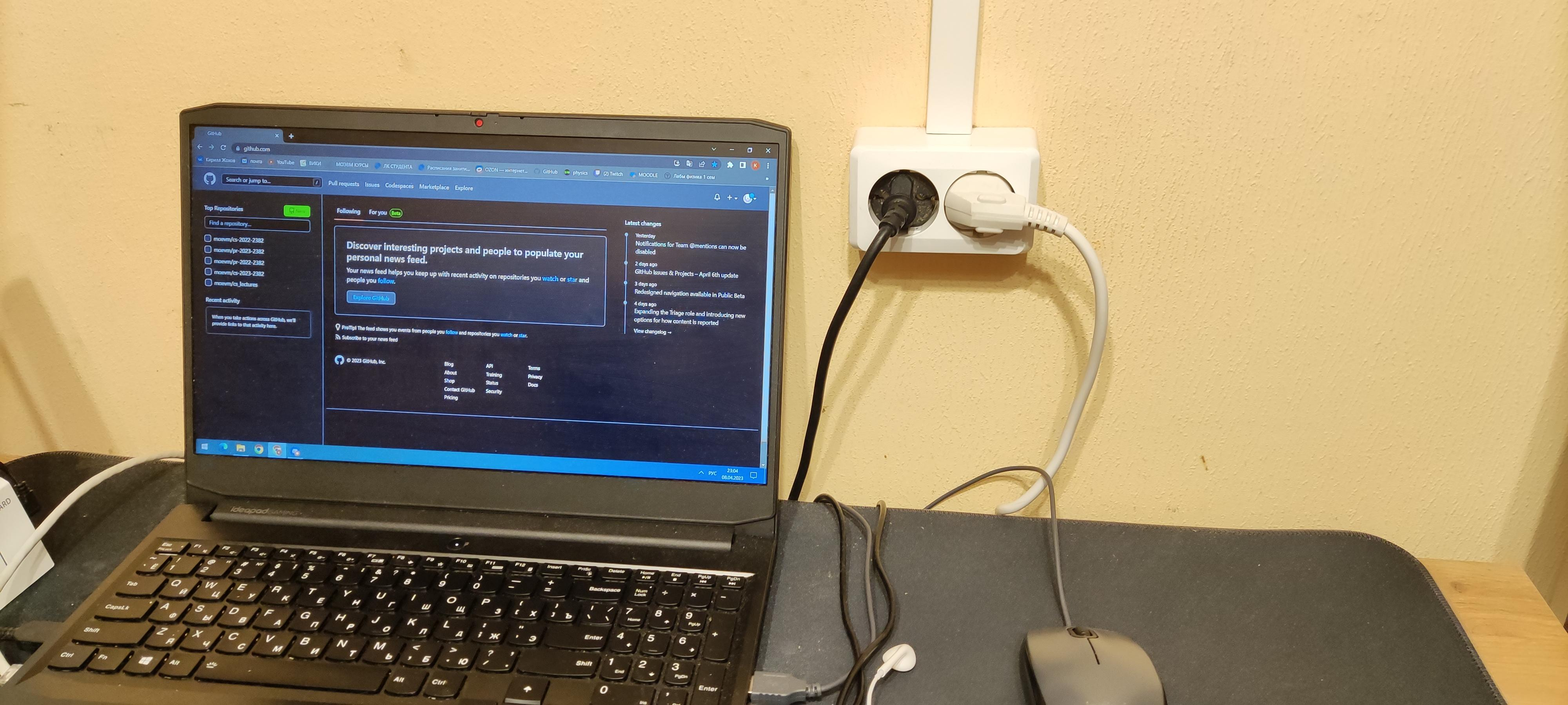monitor: (178, 101, 797, 538)
